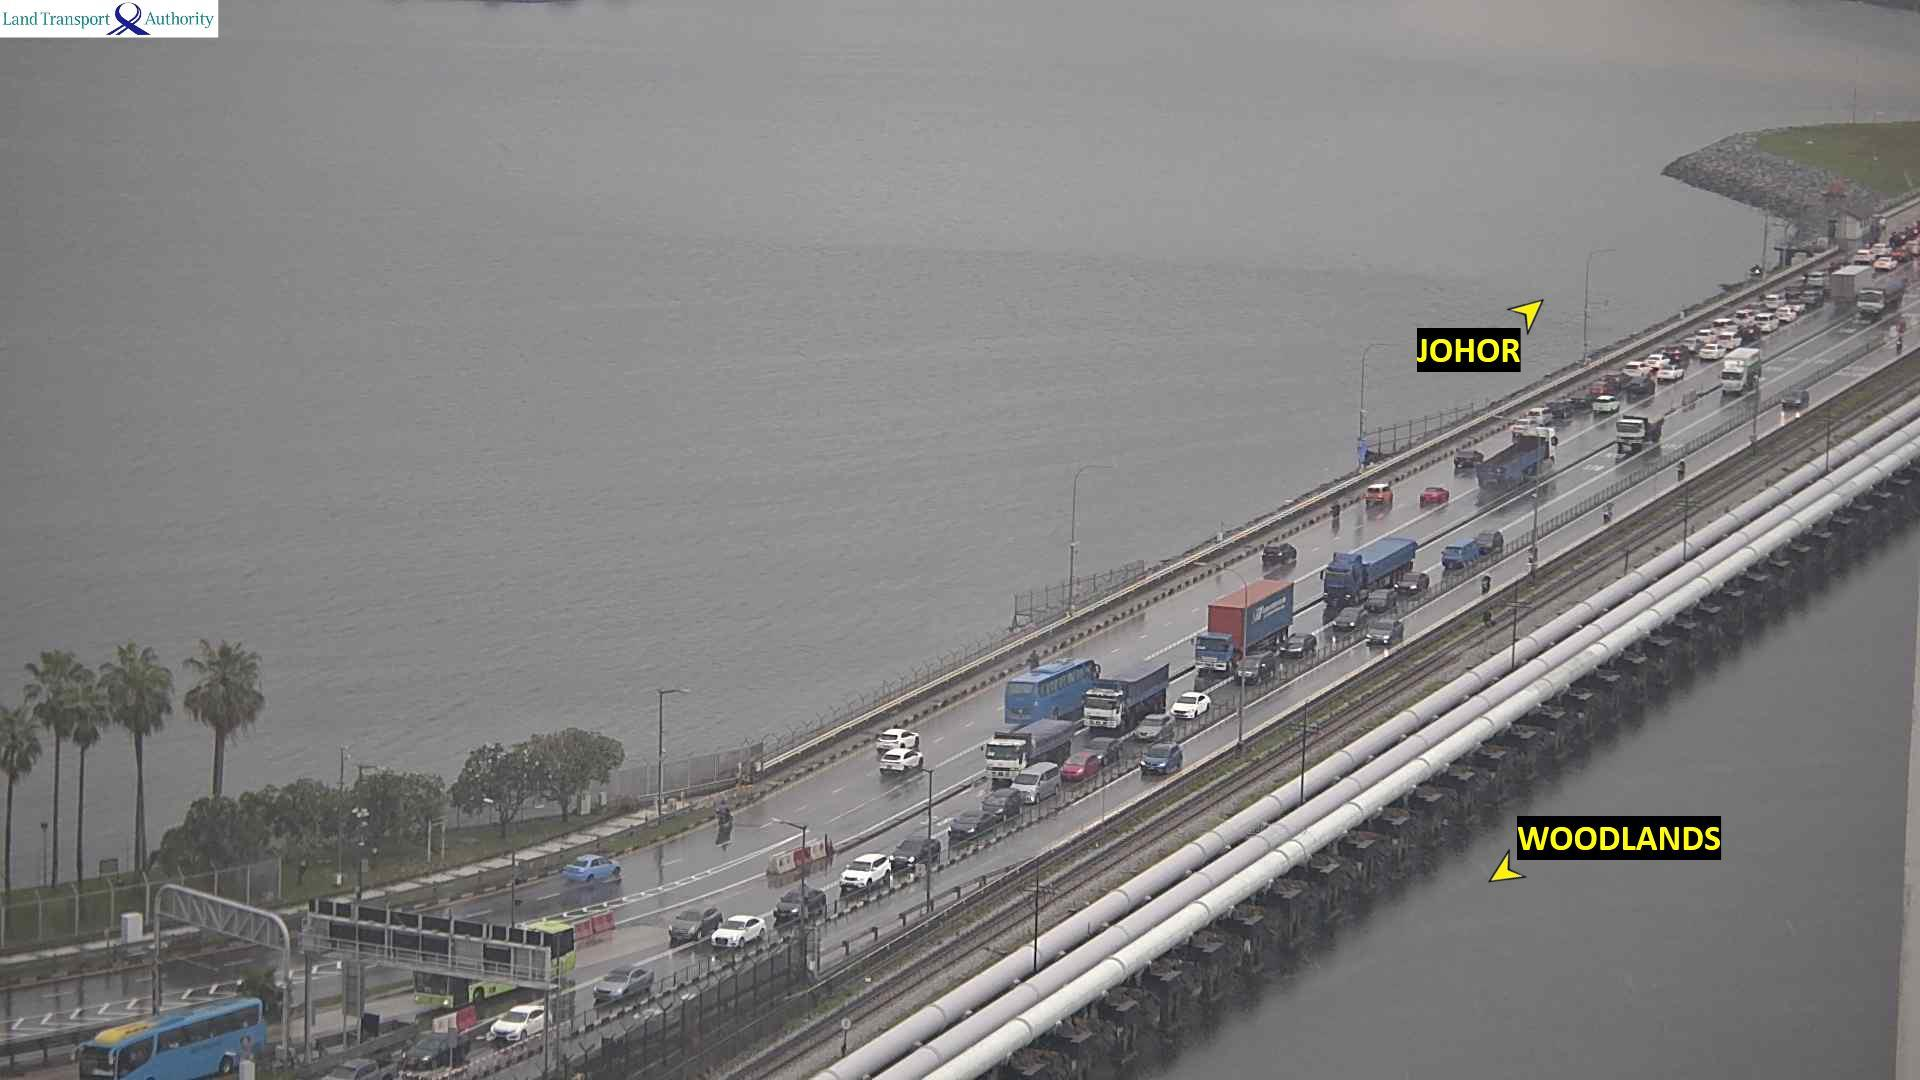vehicle-causeway-johor: (1478, 424, 1563, 492), (1006, 660, 1095, 723), (1831, 266, 1870, 303), (561, 864, 617, 884), (878, 728, 919, 751), (884, 751, 922, 775), (1263, 543, 1297, 562), (1616, 377, 1652, 393), (1655, 363, 1684, 382), (1417, 486, 1448, 503), (1365, 484, 1396, 500), (716, 802, 734, 827), (1594, 397, 1620, 414), (1454, 451, 1479, 468), (1783, 282, 1805, 299), (1699, 343, 1723, 358), (1661, 344, 1688, 357), (1511, 419, 1535, 433), (1682, 335, 1703, 351), (1625, 360, 1647, 375), (1744, 303, 1766, 318), (1714, 333, 1739, 346), (1544, 401, 1567, 415), (1756, 314, 1777, 329), (1527, 407, 1551, 420), (1570, 395, 1593, 408), (1806, 271, 1824, 287), (1762, 296, 1784, 309), (1872, 258, 1898, 269), (1735, 312, 1754, 327), (1804, 291, 1823, 306), (1775, 307, 1796, 320), (1856, 248, 1874, 263), (1644, 355, 1664, 367), (1870, 244, 1890, 254)
vehicle-causeway-singapore: (83, 1005, 275, 1080), (414, 924, 573, 1003), (1202, 582, 1298, 651), (1079, 665, 1169, 732), (1327, 537, 1423, 596), (983, 719, 1082, 769), (402, 1033, 469, 1067), (487, 1008, 552, 1040), (710, 918, 771, 950), (837, 858, 896, 890), (596, 973, 659, 1002), (1721, 347, 1760, 393), (663, 908, 724, 937), (322, 1056, 394, 1080), (1857, 279, 1904, 313), (1010, 767, 1060, 798), (890, 835, 940, 863), (779, 892, 832, 918), (949, 810, 994, 837), (1612, 416, 1660, 441), (984, 788, 1022, 817), (1170, 696, 1212, 720), (1063, 752, 1097, 780), (1366, 620, 1405, 644), (1086, 739, 1120, 765), (1237, 655, 1274, 678), (1133, 720, 1175, 740), (1444, 540, 1474, 567), (1142, 756, 1182, 776), (1277, 637, 1315, 658), (1331, 611, 1370, 629), (1478, 530, 1504, 549), (1782, 389, 1809, 407), (1477, 574, 1490, 592), (1895, 334, 1905, 351), (1676, 459, 1685, 477), (1528, 545, 1536, 562), (1604, 502, 1611, 521)
